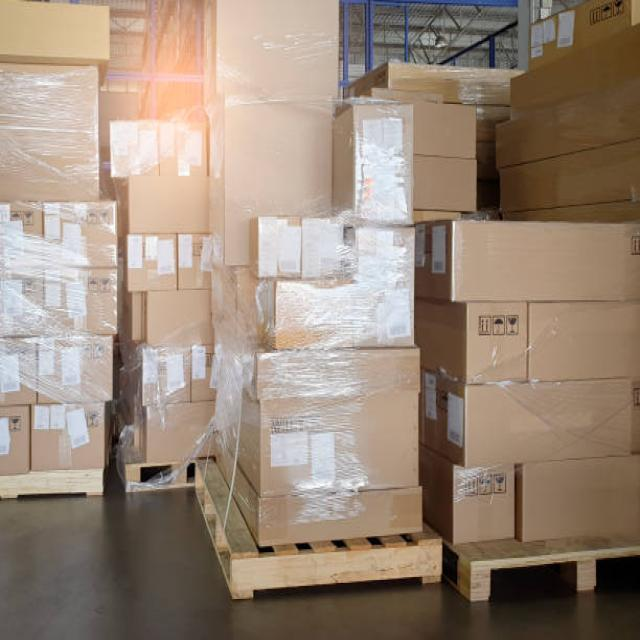Wooden-Pallets: (185, 457, 441, 612), (457, 530, 637, 617)
